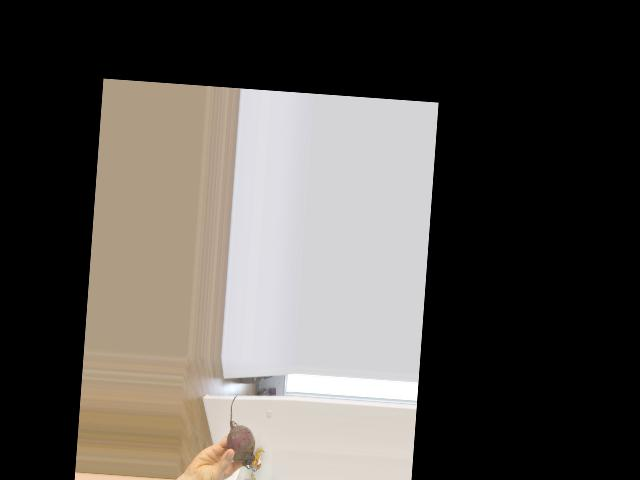beet: (224, 393, 259, 468)
